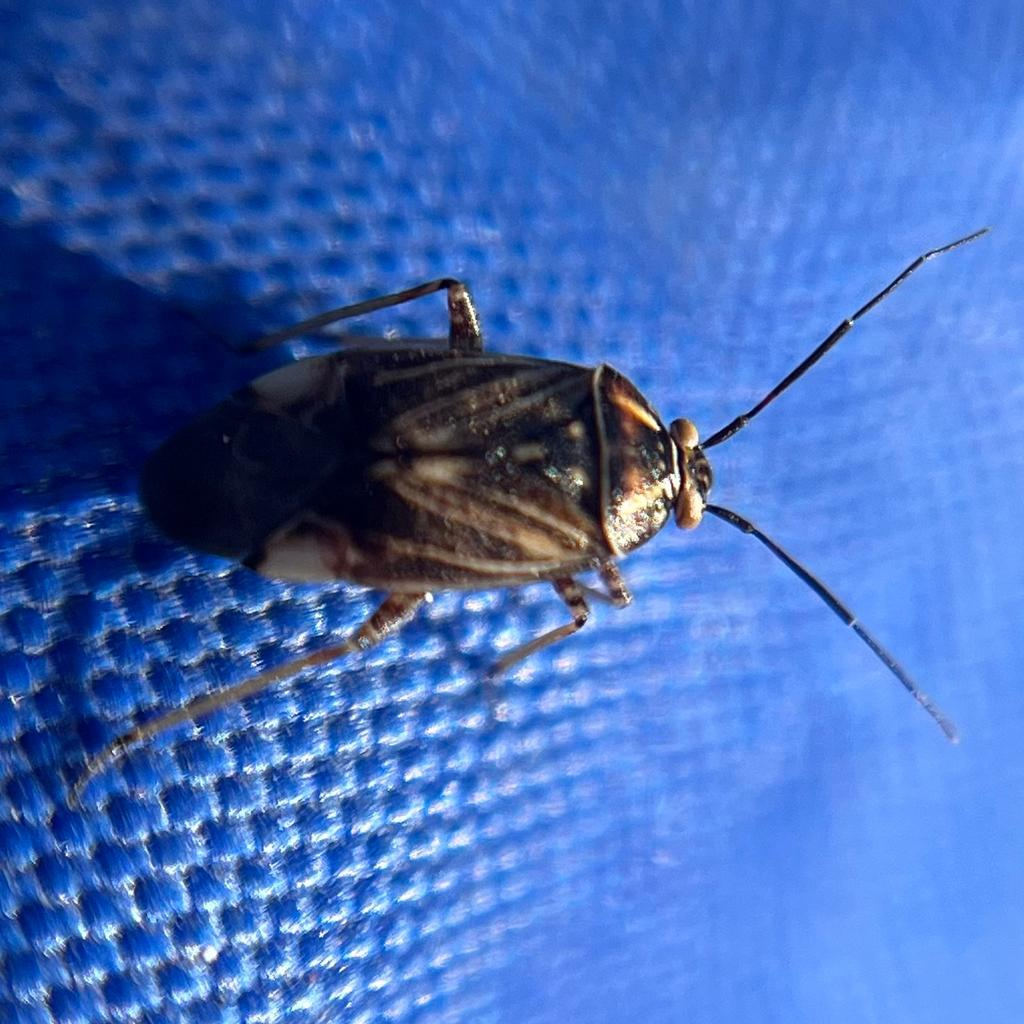plant_bugs: (18, 134, 1024, 849)
